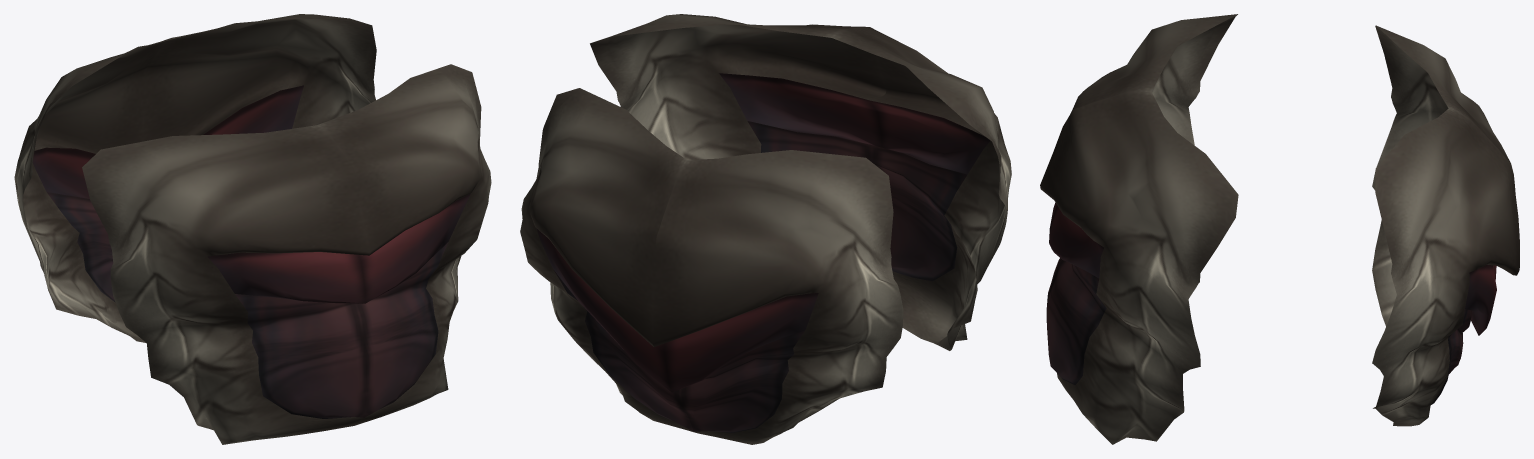
File: chestArmorCiladea.fbx
3 renders of one model, left to right at view 1: azimuth 30°, elevation 25°; view 2: azimuth 150°, elevation 25°; view 3: azimuth 270°, elevation 25°, orthographic. The views are drawn at different scales.
Parts seen in each view (by area): view 1: chestArmorCiladeaFront, chestArmorCiladeaBack; view 2: chestArmorCiladeaBack, chestArmorCiladeaFront; view 3: chestArmorCiladeaFront, chestArmorCiladeaBack.
Part boxes in pixels (x1=…): chestArmorCiladeaFront: x1=82, y1=64, x2=491, y2=444; chestArmorCiladeaBack: x1=14, y1=14, x2=376, y2=342; chestArmorCiladeaBack: x1=520, y1=88, x2=903, y2=444; chestArmorCiladeaFront: x1=590, y1=14, x2=1011, y2=350; chestArmorCiladeaFront: x1=1040, y1=14, x2=1238, y2=444; chestArmorCiladeaBack: x1=1372, y1=25, x2=1519, y2=426.
Bounding box in the file's own units: 1.73 × 1.25 × 1.74.
